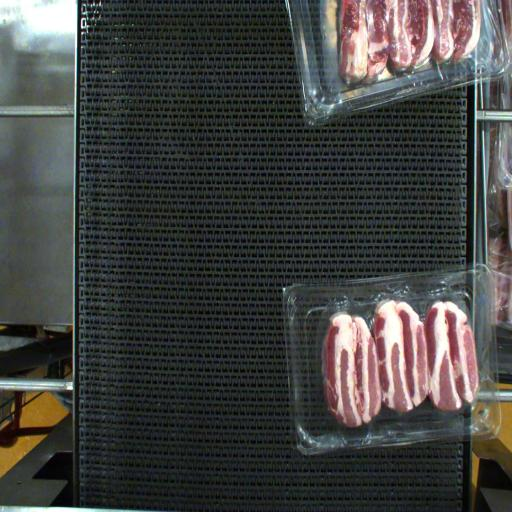unsealed: (314, 287, 474, 359)
